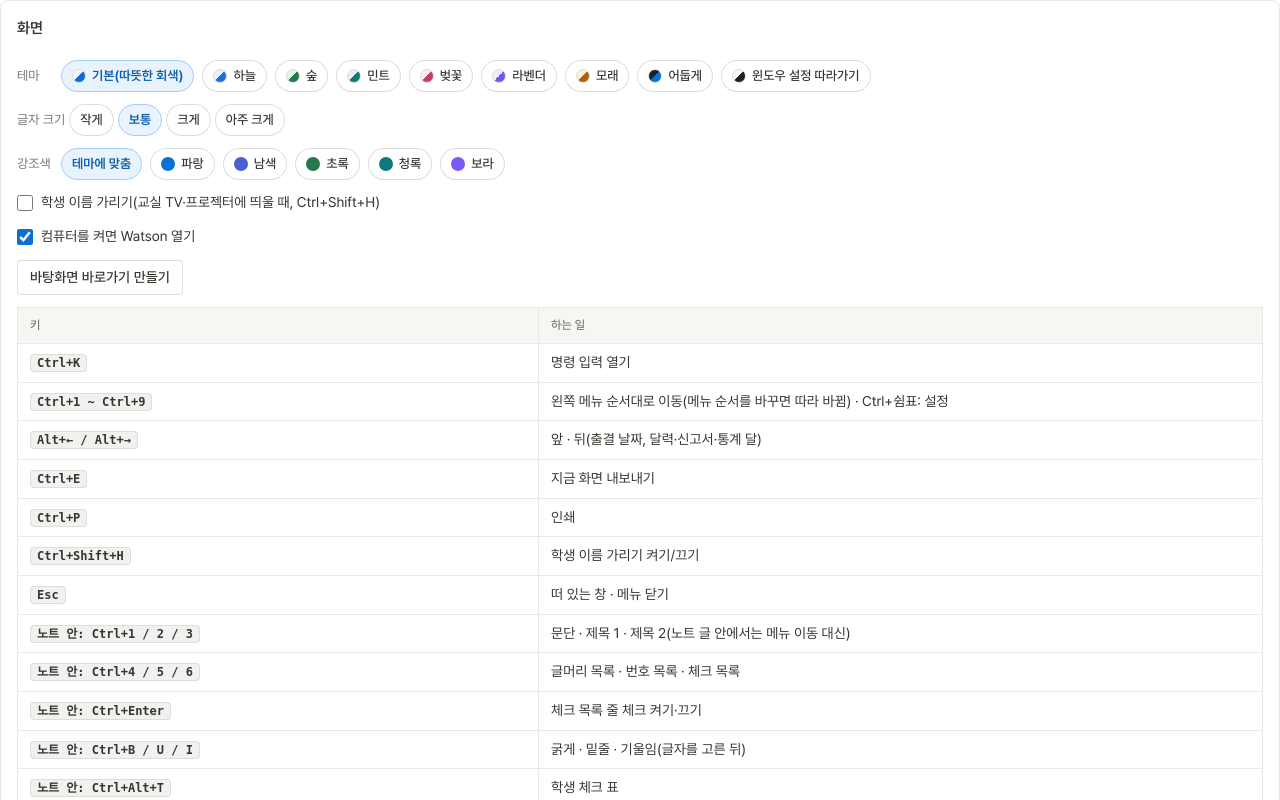
Test: 바로가기 실패 문구, .cmd 도우미 문구 없음
The image size is (1280, 800).
Click the button "바탕화면 바로가기 만들기" at coordinates (100, 277), box [17,260,183,295]
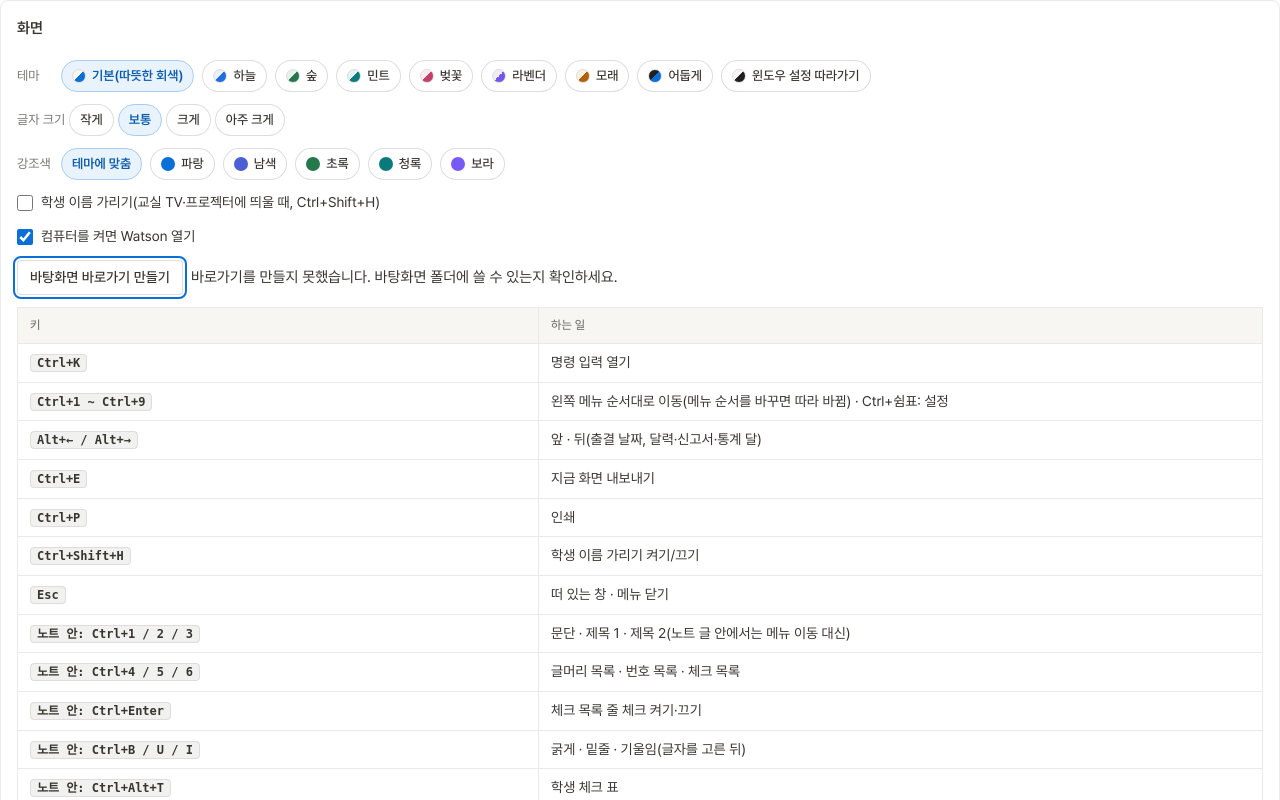
expect the text "바로가기를 만들지 못했습니다. 바탕화면 폴더에 쓸 수 있는지 확인하세요." is shown: met, box [191,266,618,289]
